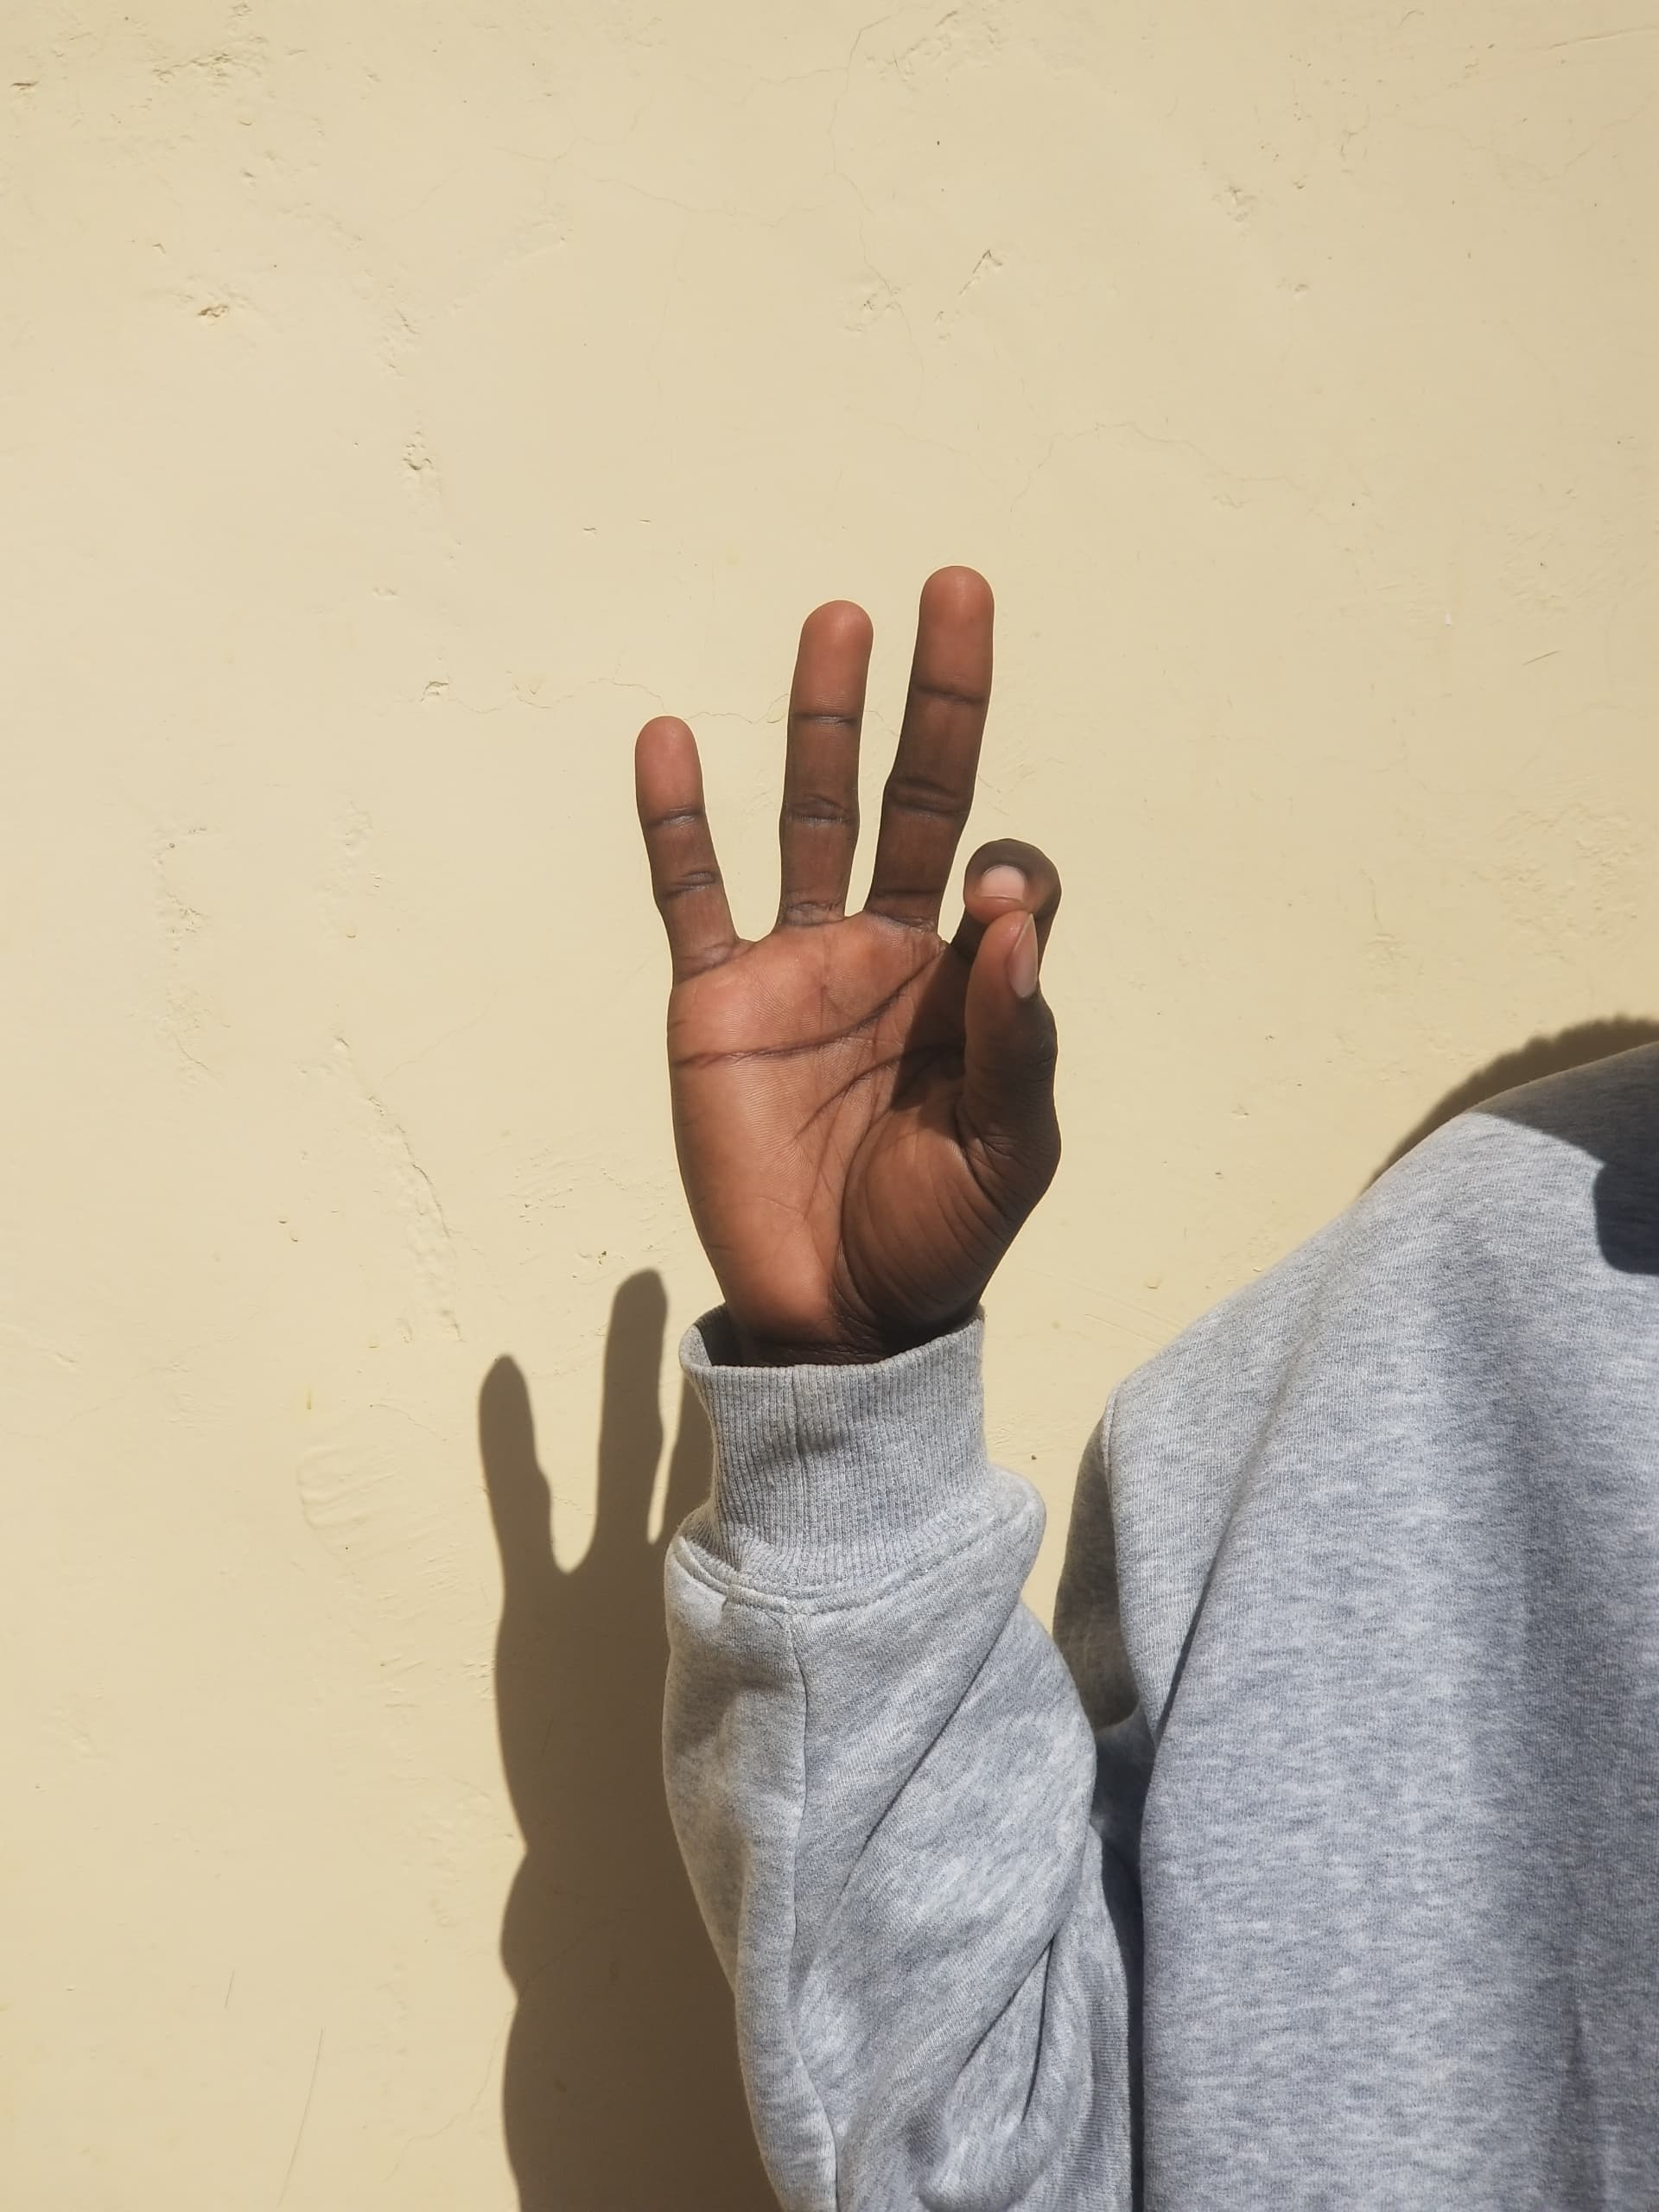okay: (479, 517, 1147, 1376)
